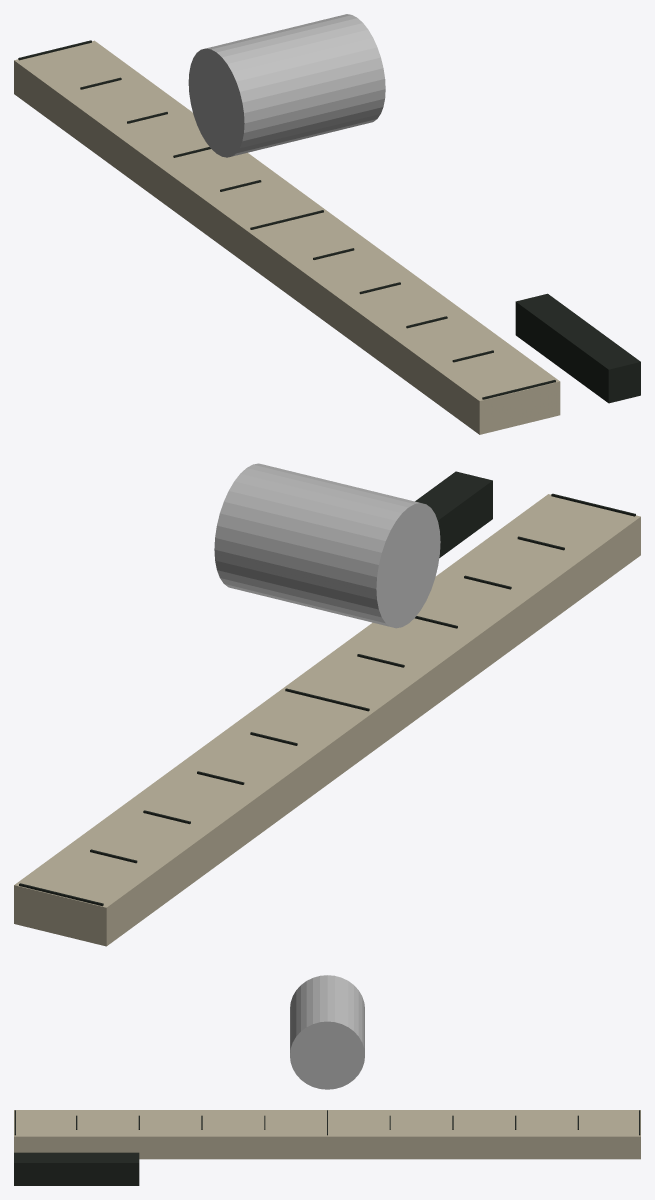
Rendered from calibration.glb.
The picture shows the model from 3 angles, top to bottom: view 1: azimuth 30°, elevation 25°; view 2: azimuth 150°, elevation 25°; view 3: azimuth 270°, elevation 25°; orthographic projection. The views are drawn at different scales.
Parts seen in each view (by area): view 1: ruler.100mm, axle.x, forward.marker; view 2: ruler.100mm, axle.x, forward.marker; view 3: ruler.100mm, axle.x, forward.marker.
Boxes of the visible parts, left/top/right/bottom form: ruler.100mm: left=14, top=40, right=560, bottom=434; axle.x: left=188, top=14, right=385, bottom=157; forward.marker: left=515, top=293, right=640, bottom=403; ruler.100mm: left=14, top=494, right=640, bottom=946; axle.x: left=214, top=463, right=440, bottom=628; forward.marker: left=415, top=471, right=492, bottom=557; ruler.100mm: left=14, top=1110, right=640, bottom=1159; axle.x: left=290, top=975, right=364, bottom=1089; forward.marker: left=14, top=1152, right=139, bottom=1185.
Bounding box in the file's own units: 0.0238 × 0.026 × 0.1.
